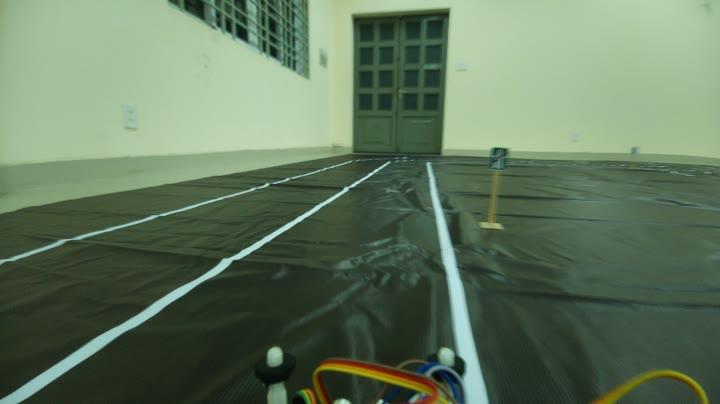highway_exit: (487, 145, 508, 176)
